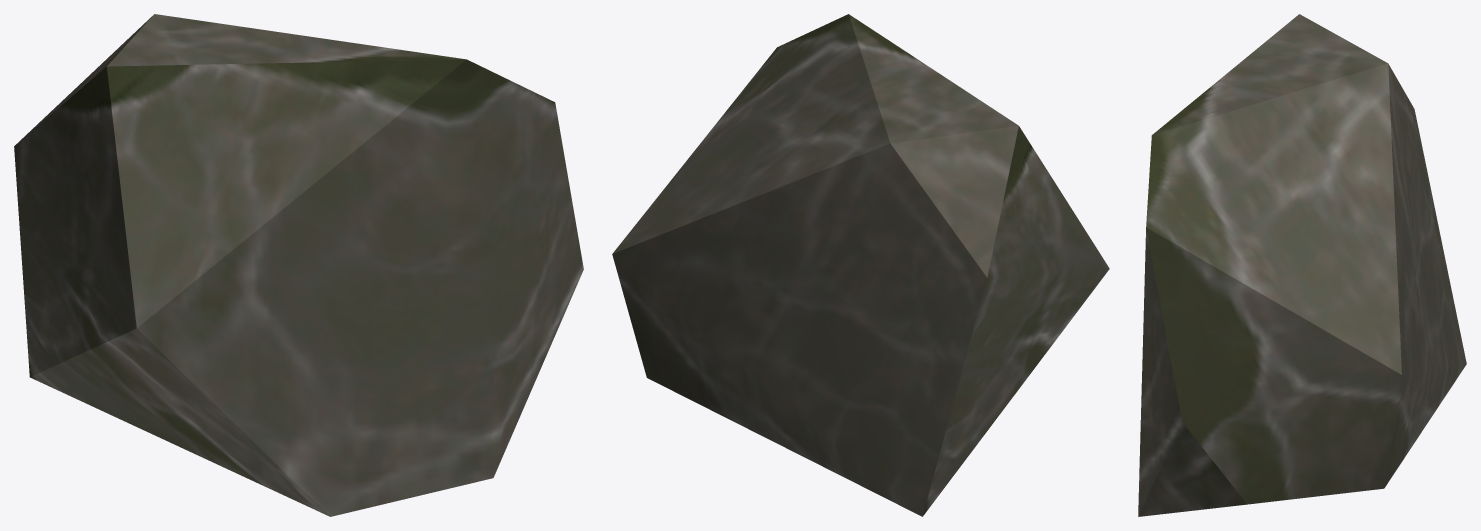
Rendered from TI_Brick_10.fbx.
The picture shows the model from 3 angles, left to right: view 1: azimuth 30°, elevation 25°; view 2: azimuth 150°, elevation 25°; view 3: azimuth 270°, elevation 25°; orthographic projection. The views are drawn at different scales.
Parts seen in each view (by area): view 1: TI_Brick_10; view 2: TI_Brick_10; view 3: TI_Brick_10.
Boxes of the visible parts, bbox=[...] form: TI_Brick_10: bbox=[14, 14, 583, 516]; TI_Brick_10: bbox=[612, 14, 1109, 516]; TI_Brick_10: bbox=[1138, 14, 1466, 516].
Bounding box in the file's own units: 0.6673 × 0.5952 × 0.4725.
